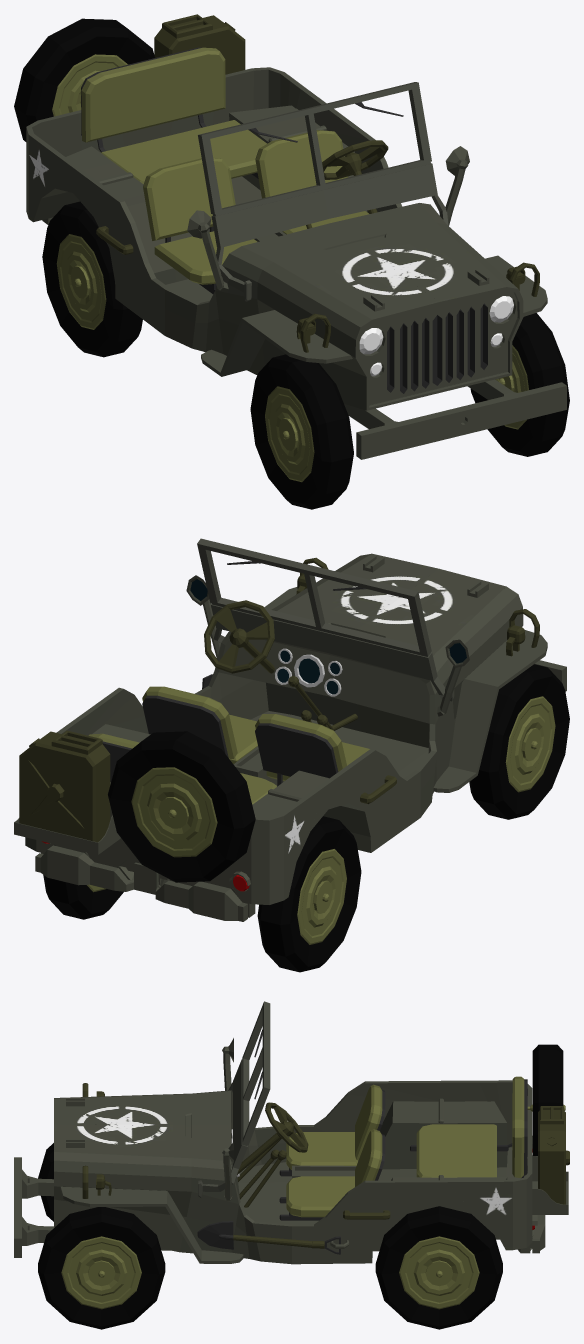
Rendered from willys-mb-jeep-low-poly-132095.glb.
3 renders of one model, top to bottom at view 1: azimuth 30°, elevation 25°; view 2: azimuth 150°, elevation 25°; view 3: azimuth 270°, elevation 25°, orthographic. The views are drawn at different scales.
Visible parts, largest first — view 1: body; view 2: body; view 3: body.
Part boxes in pixels (left/top/right/bottom): body: left=14, top=14, right=569, bottom=509; body: left=14, top=538, right=569, bottom=972; body: left=14, top=1001, right=569, bottom=1329.
Bounding box in the file's own units: 1.58 × 1.57 × 3.31.
3 materials, 3 textured.
